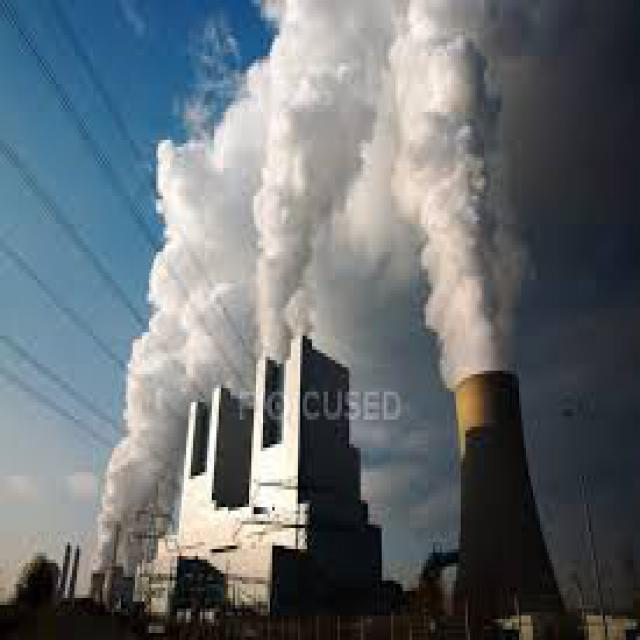smoke: (102, 4, 524, 549)
